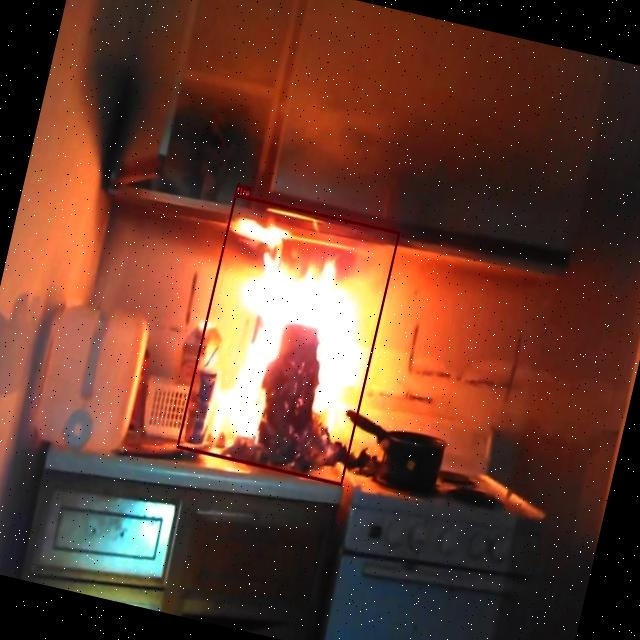fire: (176, 193, 400, 485)
